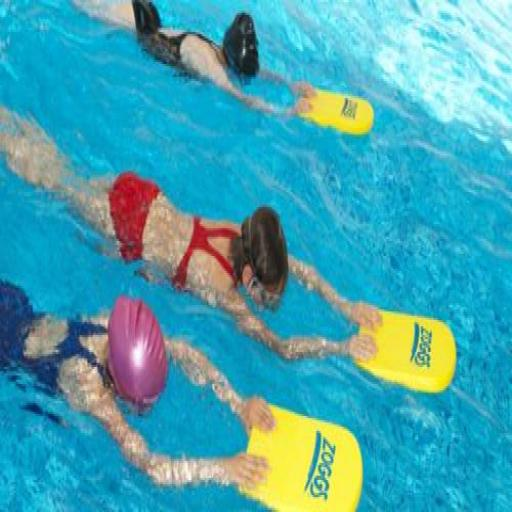swimming: (0, 100, 383, 371), (0, 275, 276, 497)
